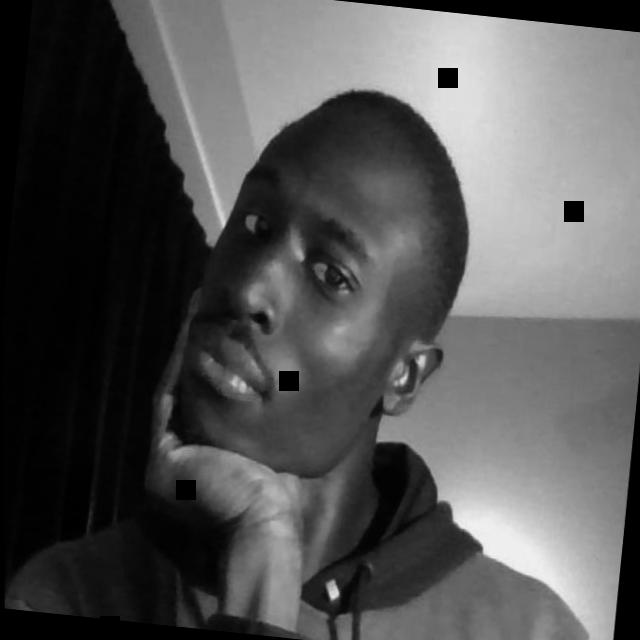NO-Mask: (164, 136, 419, 487)
